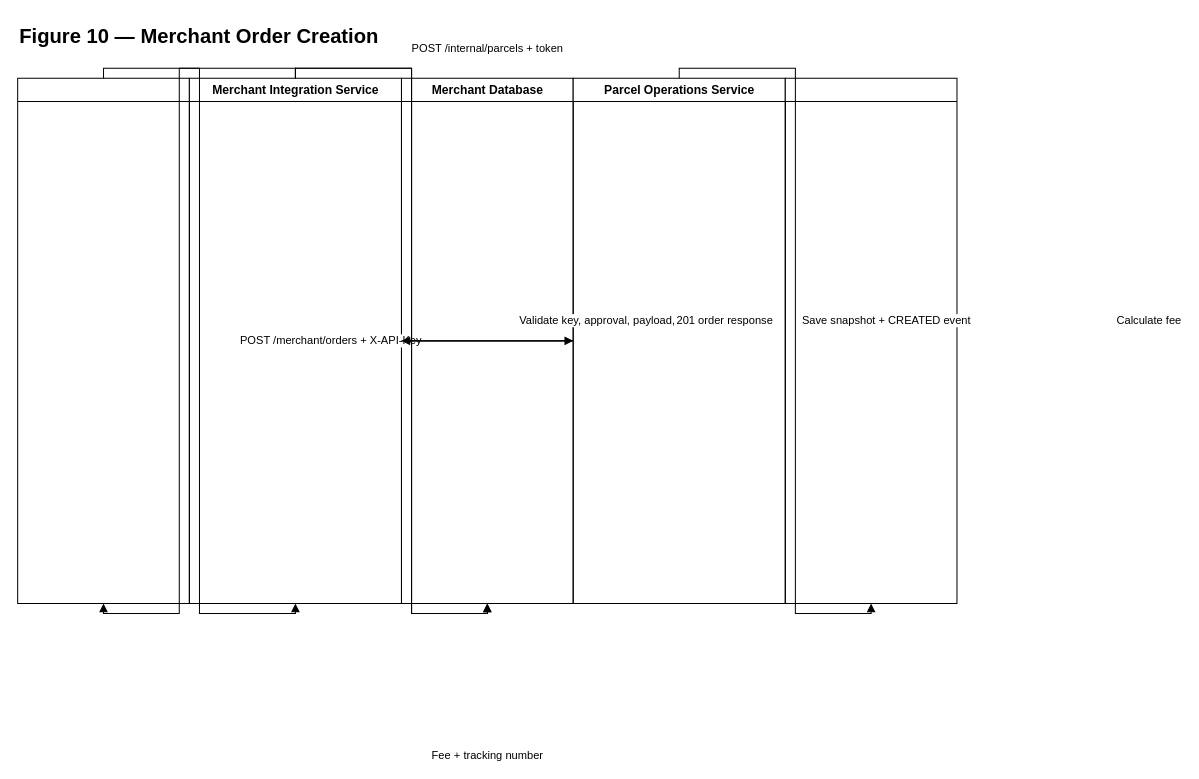
The diagram is 1199 pixels wide and 779 high, and some of its shapes have lost their labels. The centre of each missing label's shape, as x and y in pixels:
"Merchant System" belongs at [103,340].
"Pricing Service" belongs at [870,340].
